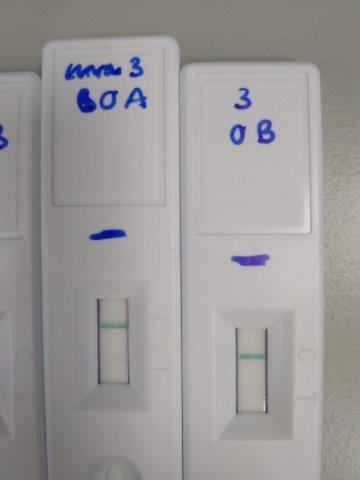Negative: (98, 297, 129, 385), (236, 327, 267, 413)
